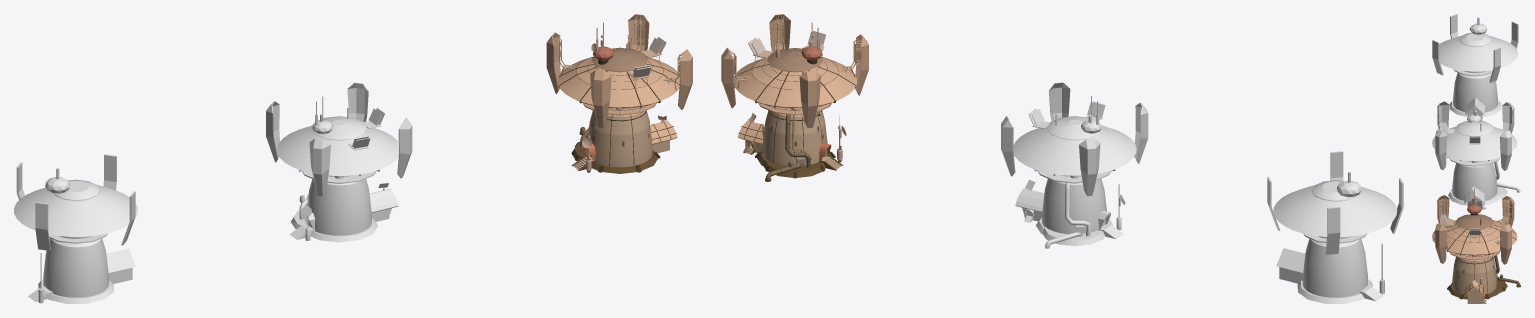
Rendered from XYZ_HW5_Detailing_2.fbx.
The picture shows the model from 3 angles, left to right: view 1: azimuth 30°, elevation 25°; view 2: azimuth 150°, elevation 25°; view 3: azimuth 270°, elevation 25°; orthographic projection. The views are drawn at different scales.
Visible parts, largest first — view 1: Cylinder.003, Cylinder.062, Cylinder.176, Cylinder, Cylinder.059, A Main Tower, Plane.057, Plane.010, Cylinder.185, Cylinder.077, Plane.012, Plane.011 (+11 smaller); view 2: Cylinder.003, Cylinder.062, Cylinder.176, Cylinder, Cylinder.059, A Main Tower, Plane.013, Plane.056, Cylinder.185, Cylinder.077, Plane.011, Plane.010 (+11 smaller); view 3: Cylinder.003, Cylinder.062, Cylinder.176, Cylinder, Cylinder.059, A Main Tower, Cylinder.077, Cylinder.185, Plane.058, Plane.011, Plane.059, Plane.012 (+33 smaller).
Part boxes in pixels (x1=…): Cylinder.003: x1=14, y1=185, x2=138, y2=236; Cylinder.062: x1=277, y1=125, x2=398, y2=175; Cylinder.176: x1=557, y1=57, x2=679, y2=107; Cylinder: x1=43, y1=238, x2=108, y2=297; Cylinder.059: x1=307, y1=179, x2=371, y2=235; A Main Tower: x1=588, y1=111, x2=652, y2=167; Plane.057: x1=590, y1=70, x2=611, y2=127; Plane.010: x1=309, y1=138, x2=330, y2=196; Cylinder.185: x1=592, y1=47, x2=647, y2=71; Cylinder.077: x1=311, y1=116, x2=366, y2=140; Plane.012: x1=347, y1=82, x2=368, y2=121; Plane.011: x1=397, y1=117, x2=412, y2=178; Cylinder.003: x1=1273, y1=185, x2=1397, y2=237; Cylinder.062: x1=1013, y1=125, x2=1136, y2=175; Cylinder.176: x1=734, y1=57, x2=856, y2=107; Cylinder: x1=1302, y1=238, x2=1367, y2=297; Cylinder.059: x1=1042, y1=178, x2=1106, y2=234; A Main Tower: x1=762, y1=111, x2=827, y2=165; Plane.013: x1=1079, y1=138, x2=1100, y2=196; Plane.056: x1=799, y1=70, x2=820, y2=127; Cylinder.185: x1=767, y1=48, x2=822, y2=71; Cylinder.077: x1=1047, y1=116, x2=1102, y2=139; Plane.011: x1=1049, y1=82, x2=1070, y2=120; Plane.010: x1=1134, y1=102, x2=1148, y2=163; Cylinder.003: x1=1439, y1=36, x2=1517, y2=71; Cylinder.062: x1=1432, y1=126, x2=1517, y2=160; Cylinder.176: x1=1432, y1=220, x2=1517, y2=254; Cylinder: x1=1453, y1=72, x2=1497, y2=112; Cylinder.059: x1=1452, y1=163, x2=1497, y2=200; A Main Tower: x1=1452, y1=257, x2=1497, y2=295; Cylinder.077: x1=1455, y1=121, x2=1493, y2=136; Cylinder.185: x1=1455, y1=214, x2=1493, y2=229; Plane.058: x1=1435, y1=223, x2=1447, y2=263; Plane.011: x1=1435, y1=129, x2=1447, y2=169; Plane.059: x1=1500, y1=224, x2=1511, y2=264; Plane.012: x1=1500, y1=130, x2=1511, y2=170.
Bounding box in the file's own units: 17149 × 3501 × 2960.
